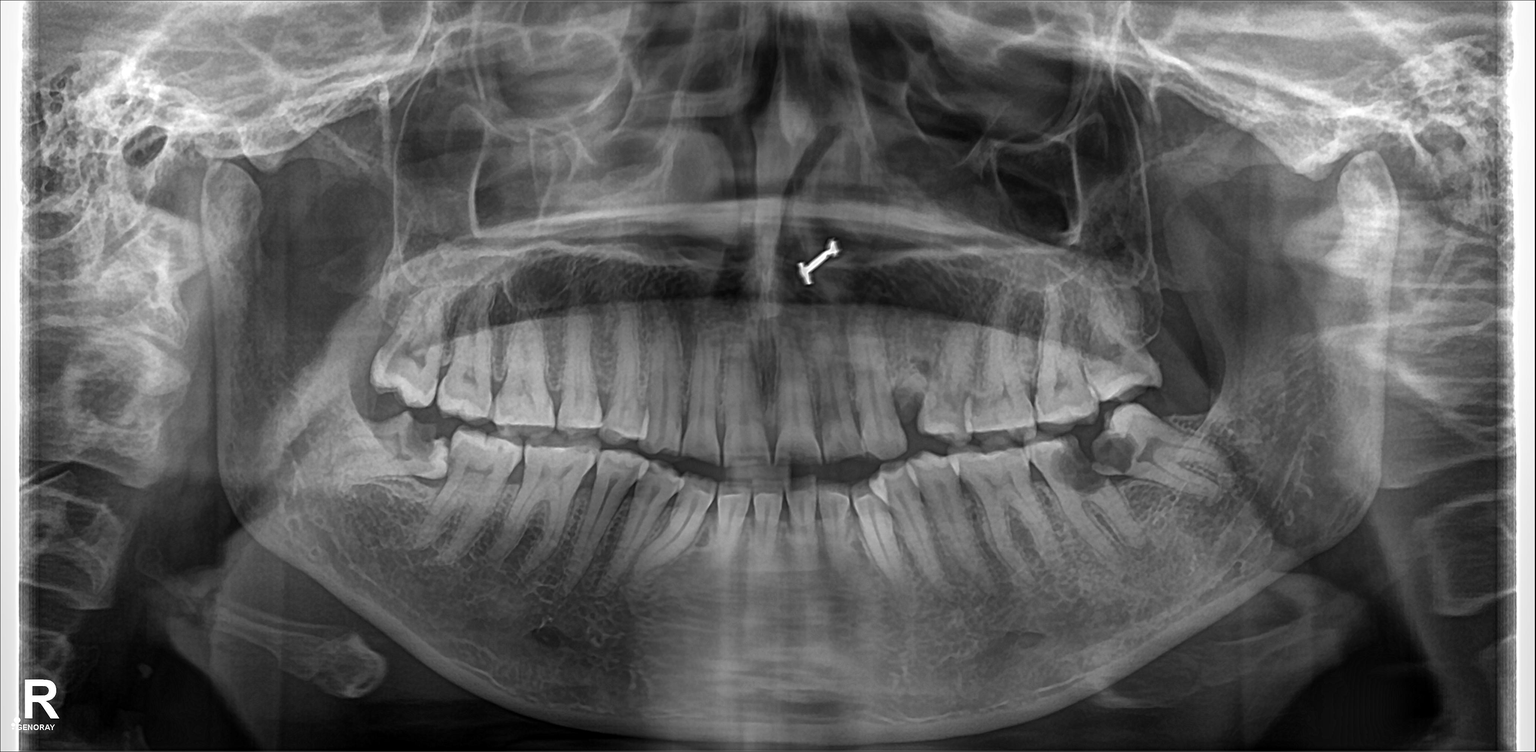Dental Caries: (1054, 443, 1102, 493), (1095, 430, 1132, 468)
Impacted Third Molar: (1105, 410, 1214, 495), (331, 415, 453, 478)
Missing Tooth: (1140, 272, 1207, 384)
